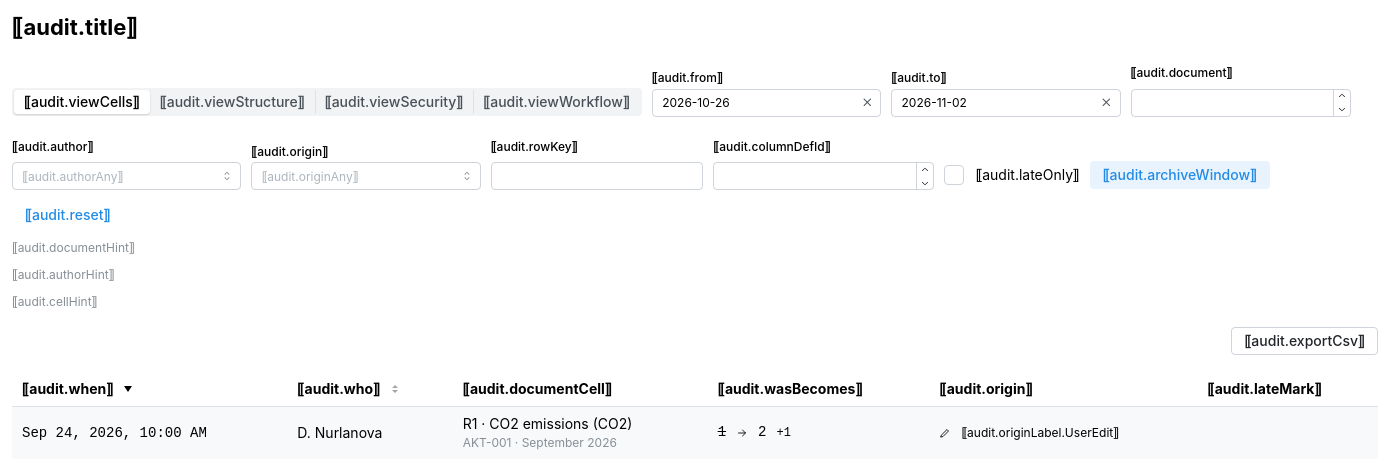
Test: AuditPage: архів аудиту (НФ-8.9.6) › кнопка «Archive» ставить вікно перед межею гарячого журналу й показує рядок із позначкою
Click the button "⟦audit.archiveWindow⟧" at (1180, 175), box x1=1090 y1=161 x2=1270 y2=189
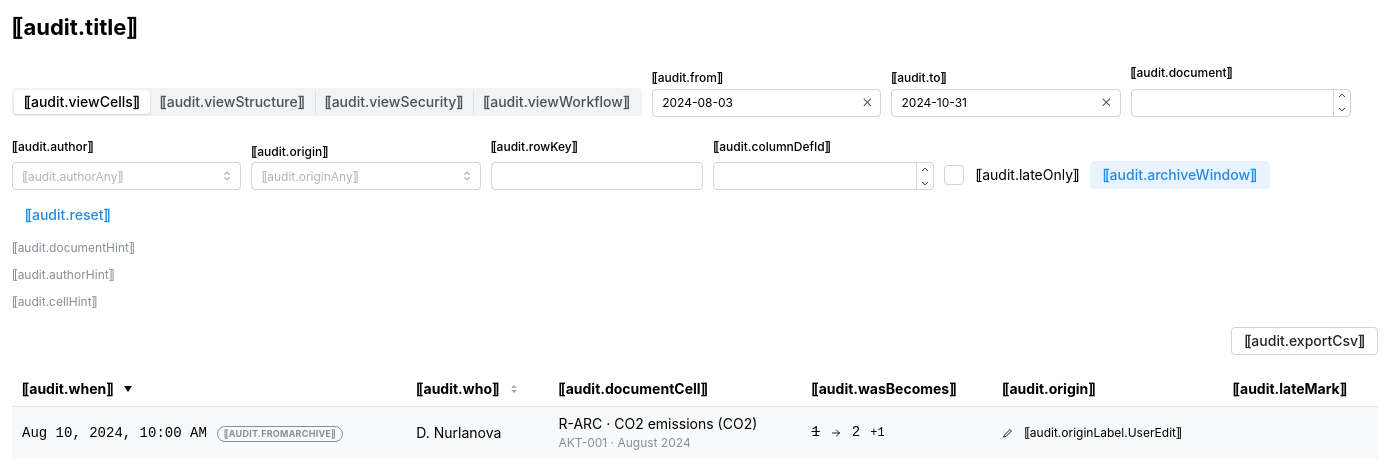
Now the element showing "⟦audit.fromArchive⟧" is shown, box x1=217 y1=426 x2=343 y2=442
